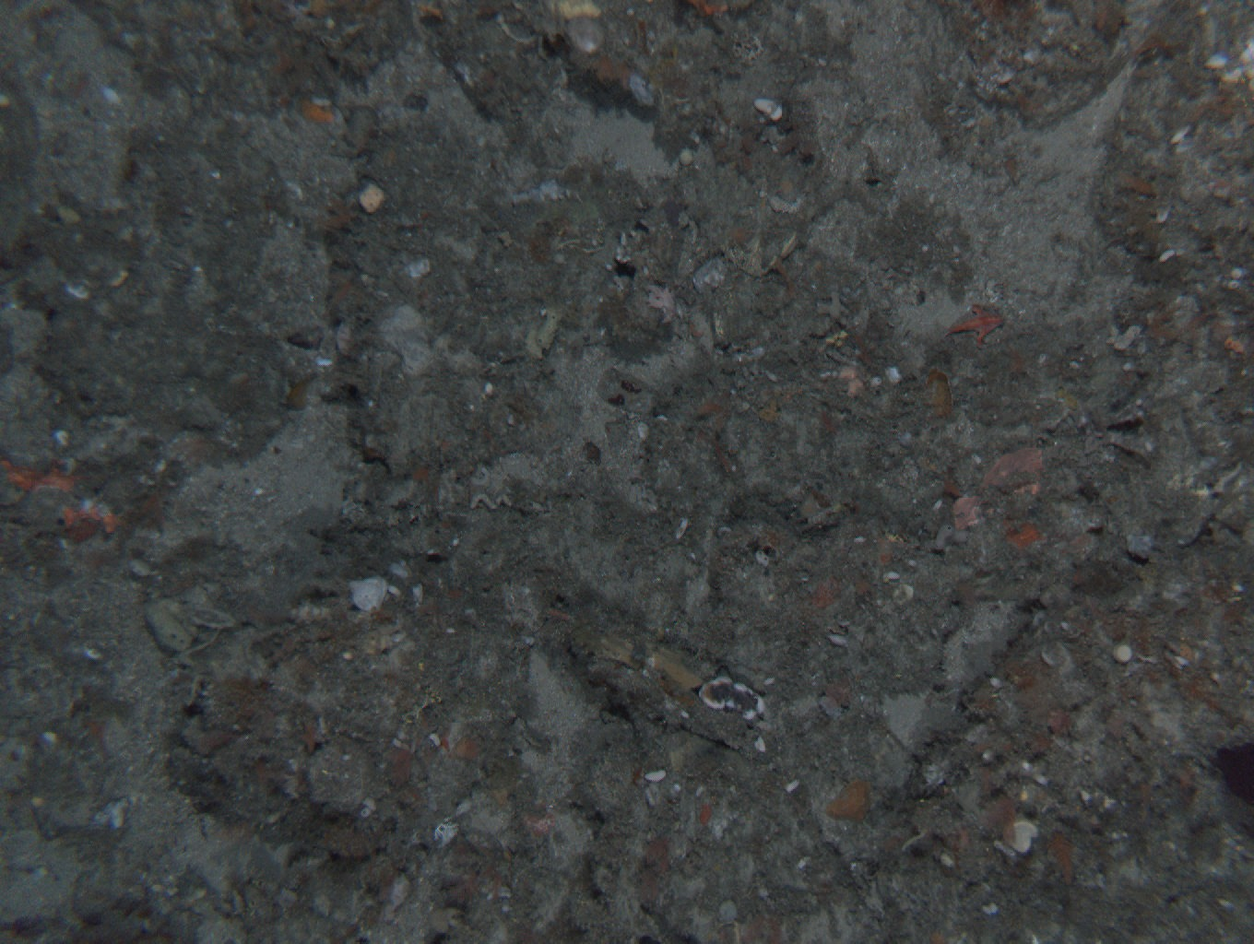Brachionichthyidae: (941, 301, 1007, 348)
